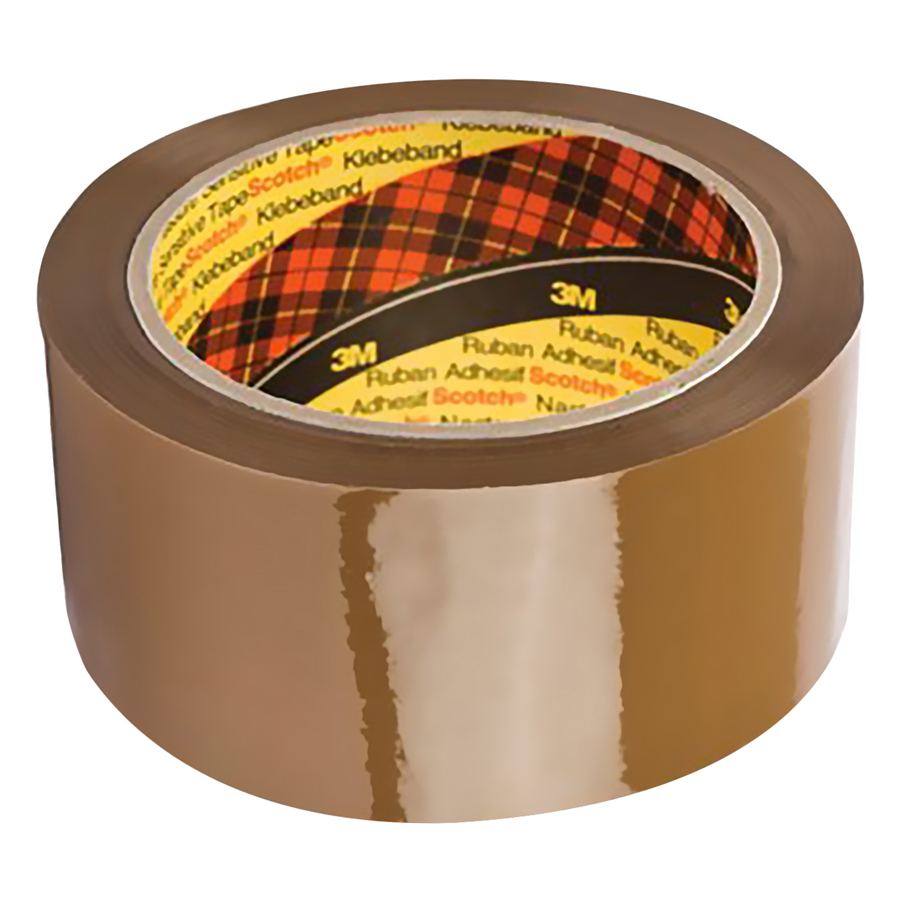3M: (325, 339, 391, 380), (550, 276, 605, 321)
